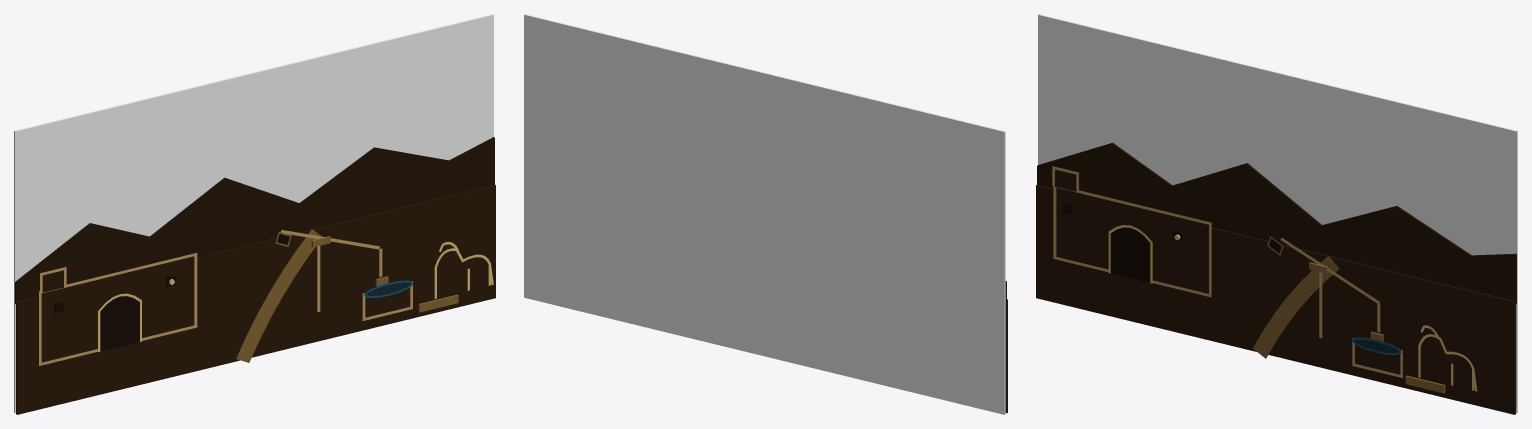
Rendered from loc-kolodets-na-puti.glb.
The picture shows the model from 3 angles, left to right: view 1: azimuth 30°, elevation 25°; view 2: azimuth 150°, elevation 25°; view 3: azimuth 330°, elevation 25°; orthographic projection.
Visible parts, largest first — view 1: loc-kolodets-na-puti; view 2: loc-kolodets-na-puti; view 3: loc-kolodets-na-puti.
Part boxes in pixels (<box>): loc-kolodets-na-puti: <box>14,14,495,414</box>; loc-kolodets-na-puti: <box>524,14,1007,414</box>; loc-kolodets-na-puti: <box>1036,14,1517,414</box>.
Bounding box in the file's own units: 5.33 × 3.04 × 0.421.
